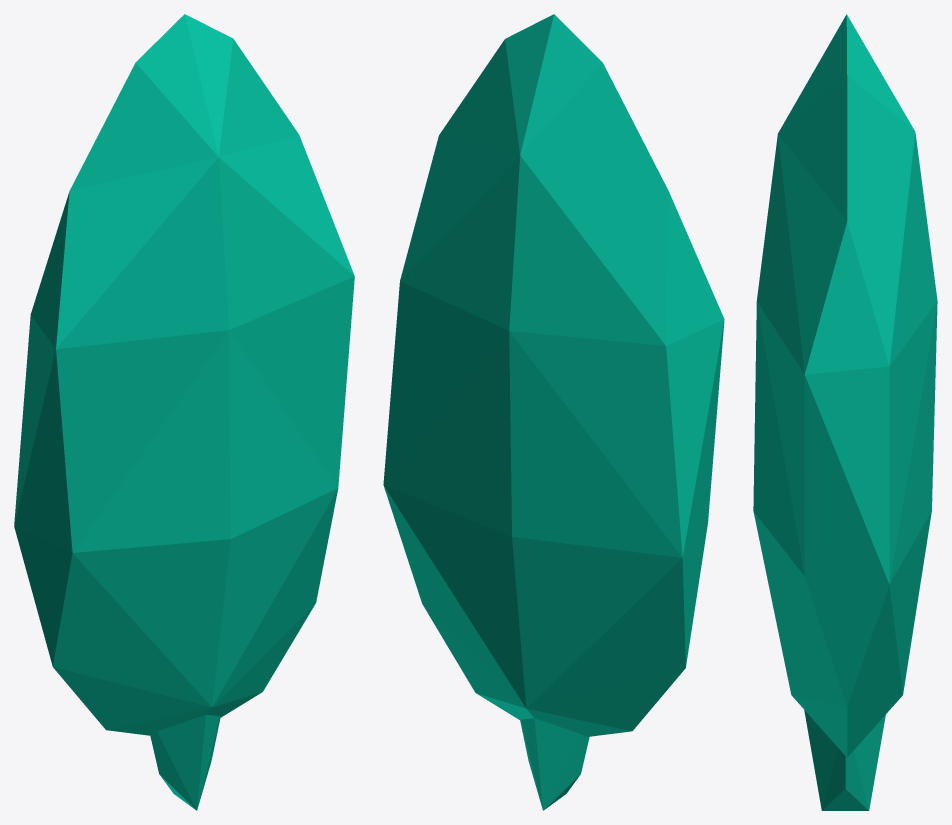
The model's file is Flower_Seed_1.fbx.
3 views of the same model, side by side, from view 1: azimuth 30°, elevation 25°; view 2: azimuth 150°, elevation 25°; view 3: azimuth 270°, elevation 25° (orthographic).
Parts seen in each view (by area): view 1: Seed_1; view 2: Seed_1; view 3: Seed_1.
Boxes of the visible parts, x1,y1,x2,y2 form: Seed_1: (14, 14, 354, 810); Seed_1: (383, 14, 724, 810); Seed_1: (753, 14, 937, 810).
Bounding box in the file's own units: 4.84 × 12.2 × 2.55.
